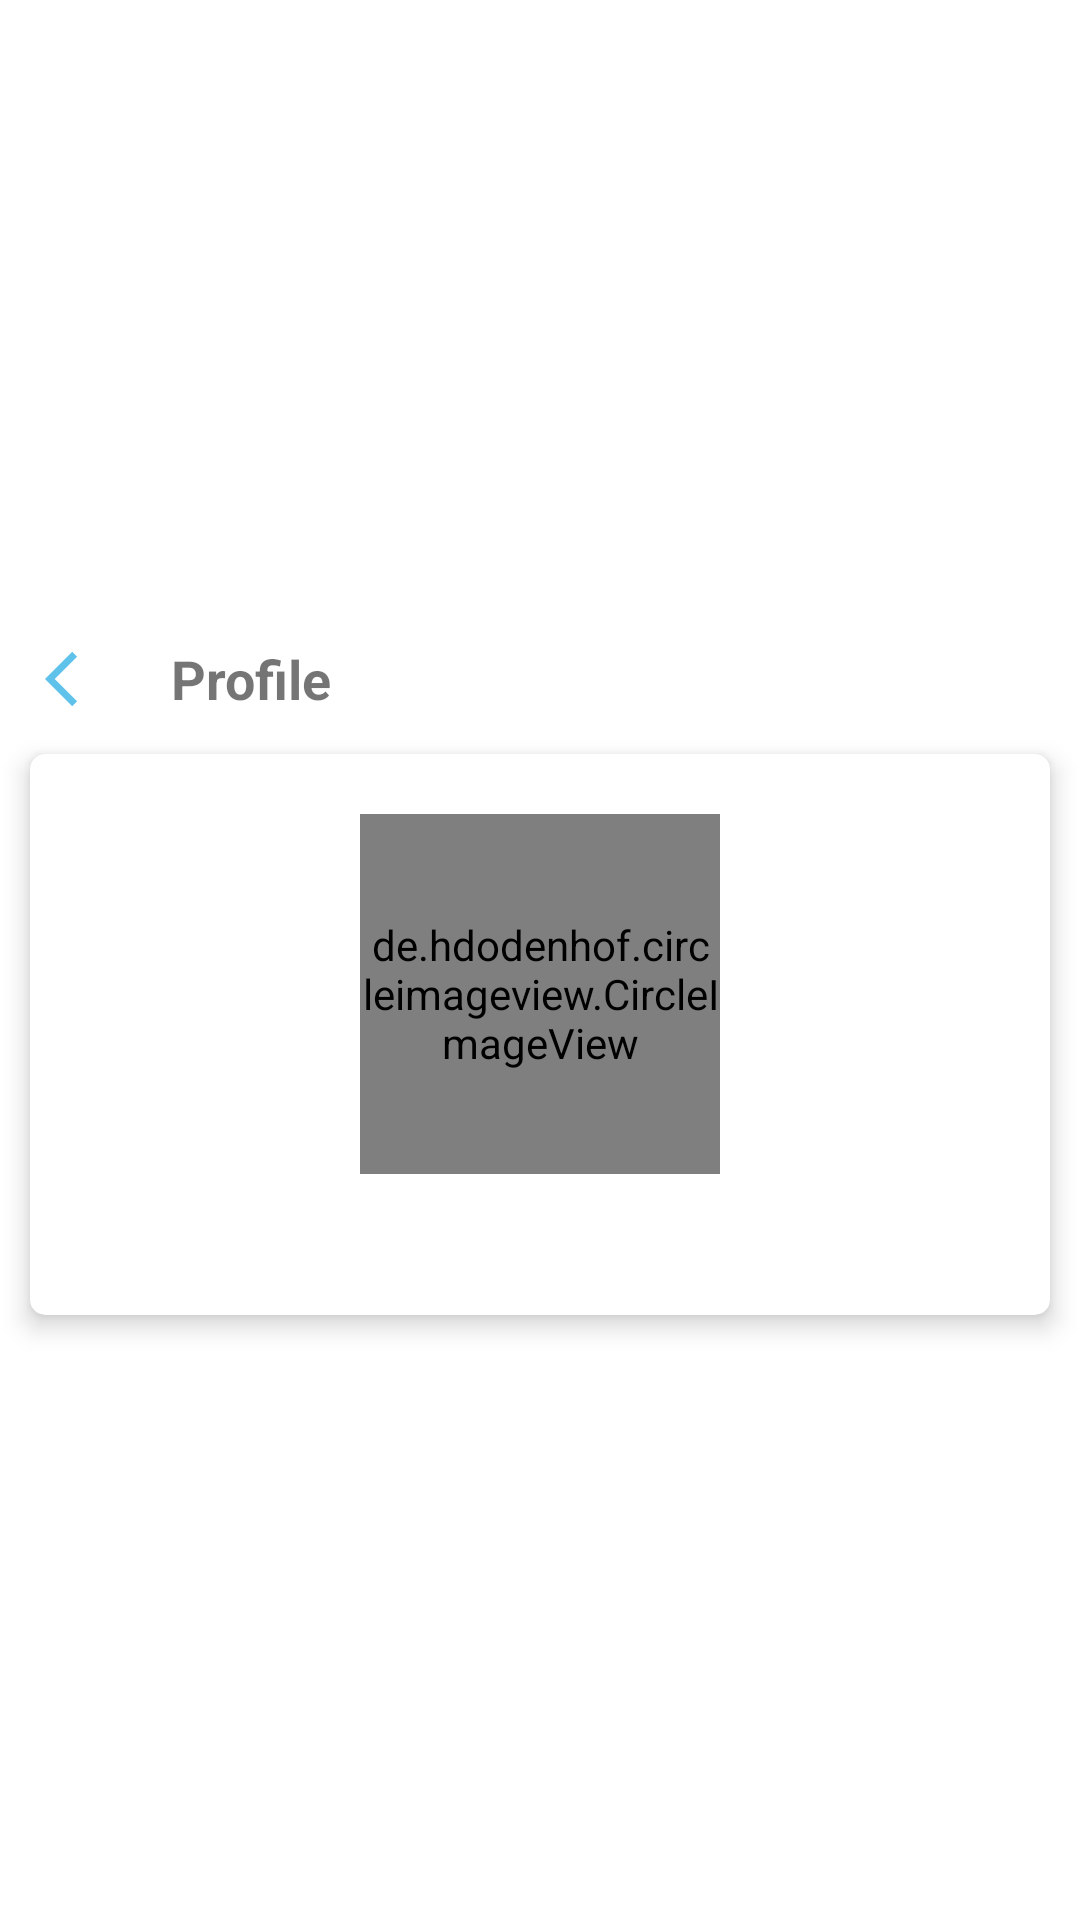

Screen size 1080*1920. Icon name, then its box in pixels as Rect(x1, y1, x2, y2):
arrow back: Rect(45, 652, 77, 706)
